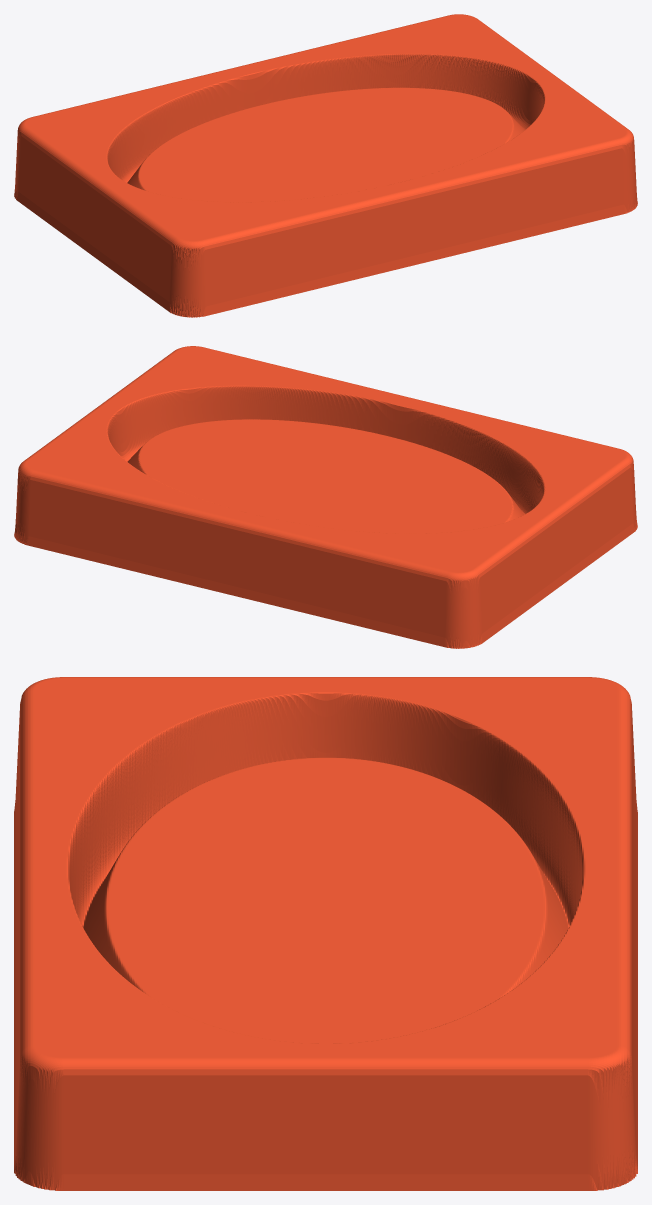
File: mold.glb
The picture shows the model from 3 angles, top to bottom: view 1: azimuth 30°, elevation 25°; view 2: azimuth 150°, elevation 25°; view 3: azimuth 270°, elevation 25°; orthographic projection. The views are drawn at different scales.
Parts seen in each view (by area): view 1: geometry_0; view 2: geometry_0; view 3: geometry_0.
Boxes of the visible parts, left/top/right/bottom form: geometry_0: left=14, top=14, right=637, bottom=317; geometry_0: left=14, top=346, right=637, bottom=648; geometry_0: left=14, top=677, right=637, bottom=1190.
Bounding box in the file's own units: 0.1728 × 0.0254 × 0.115.
